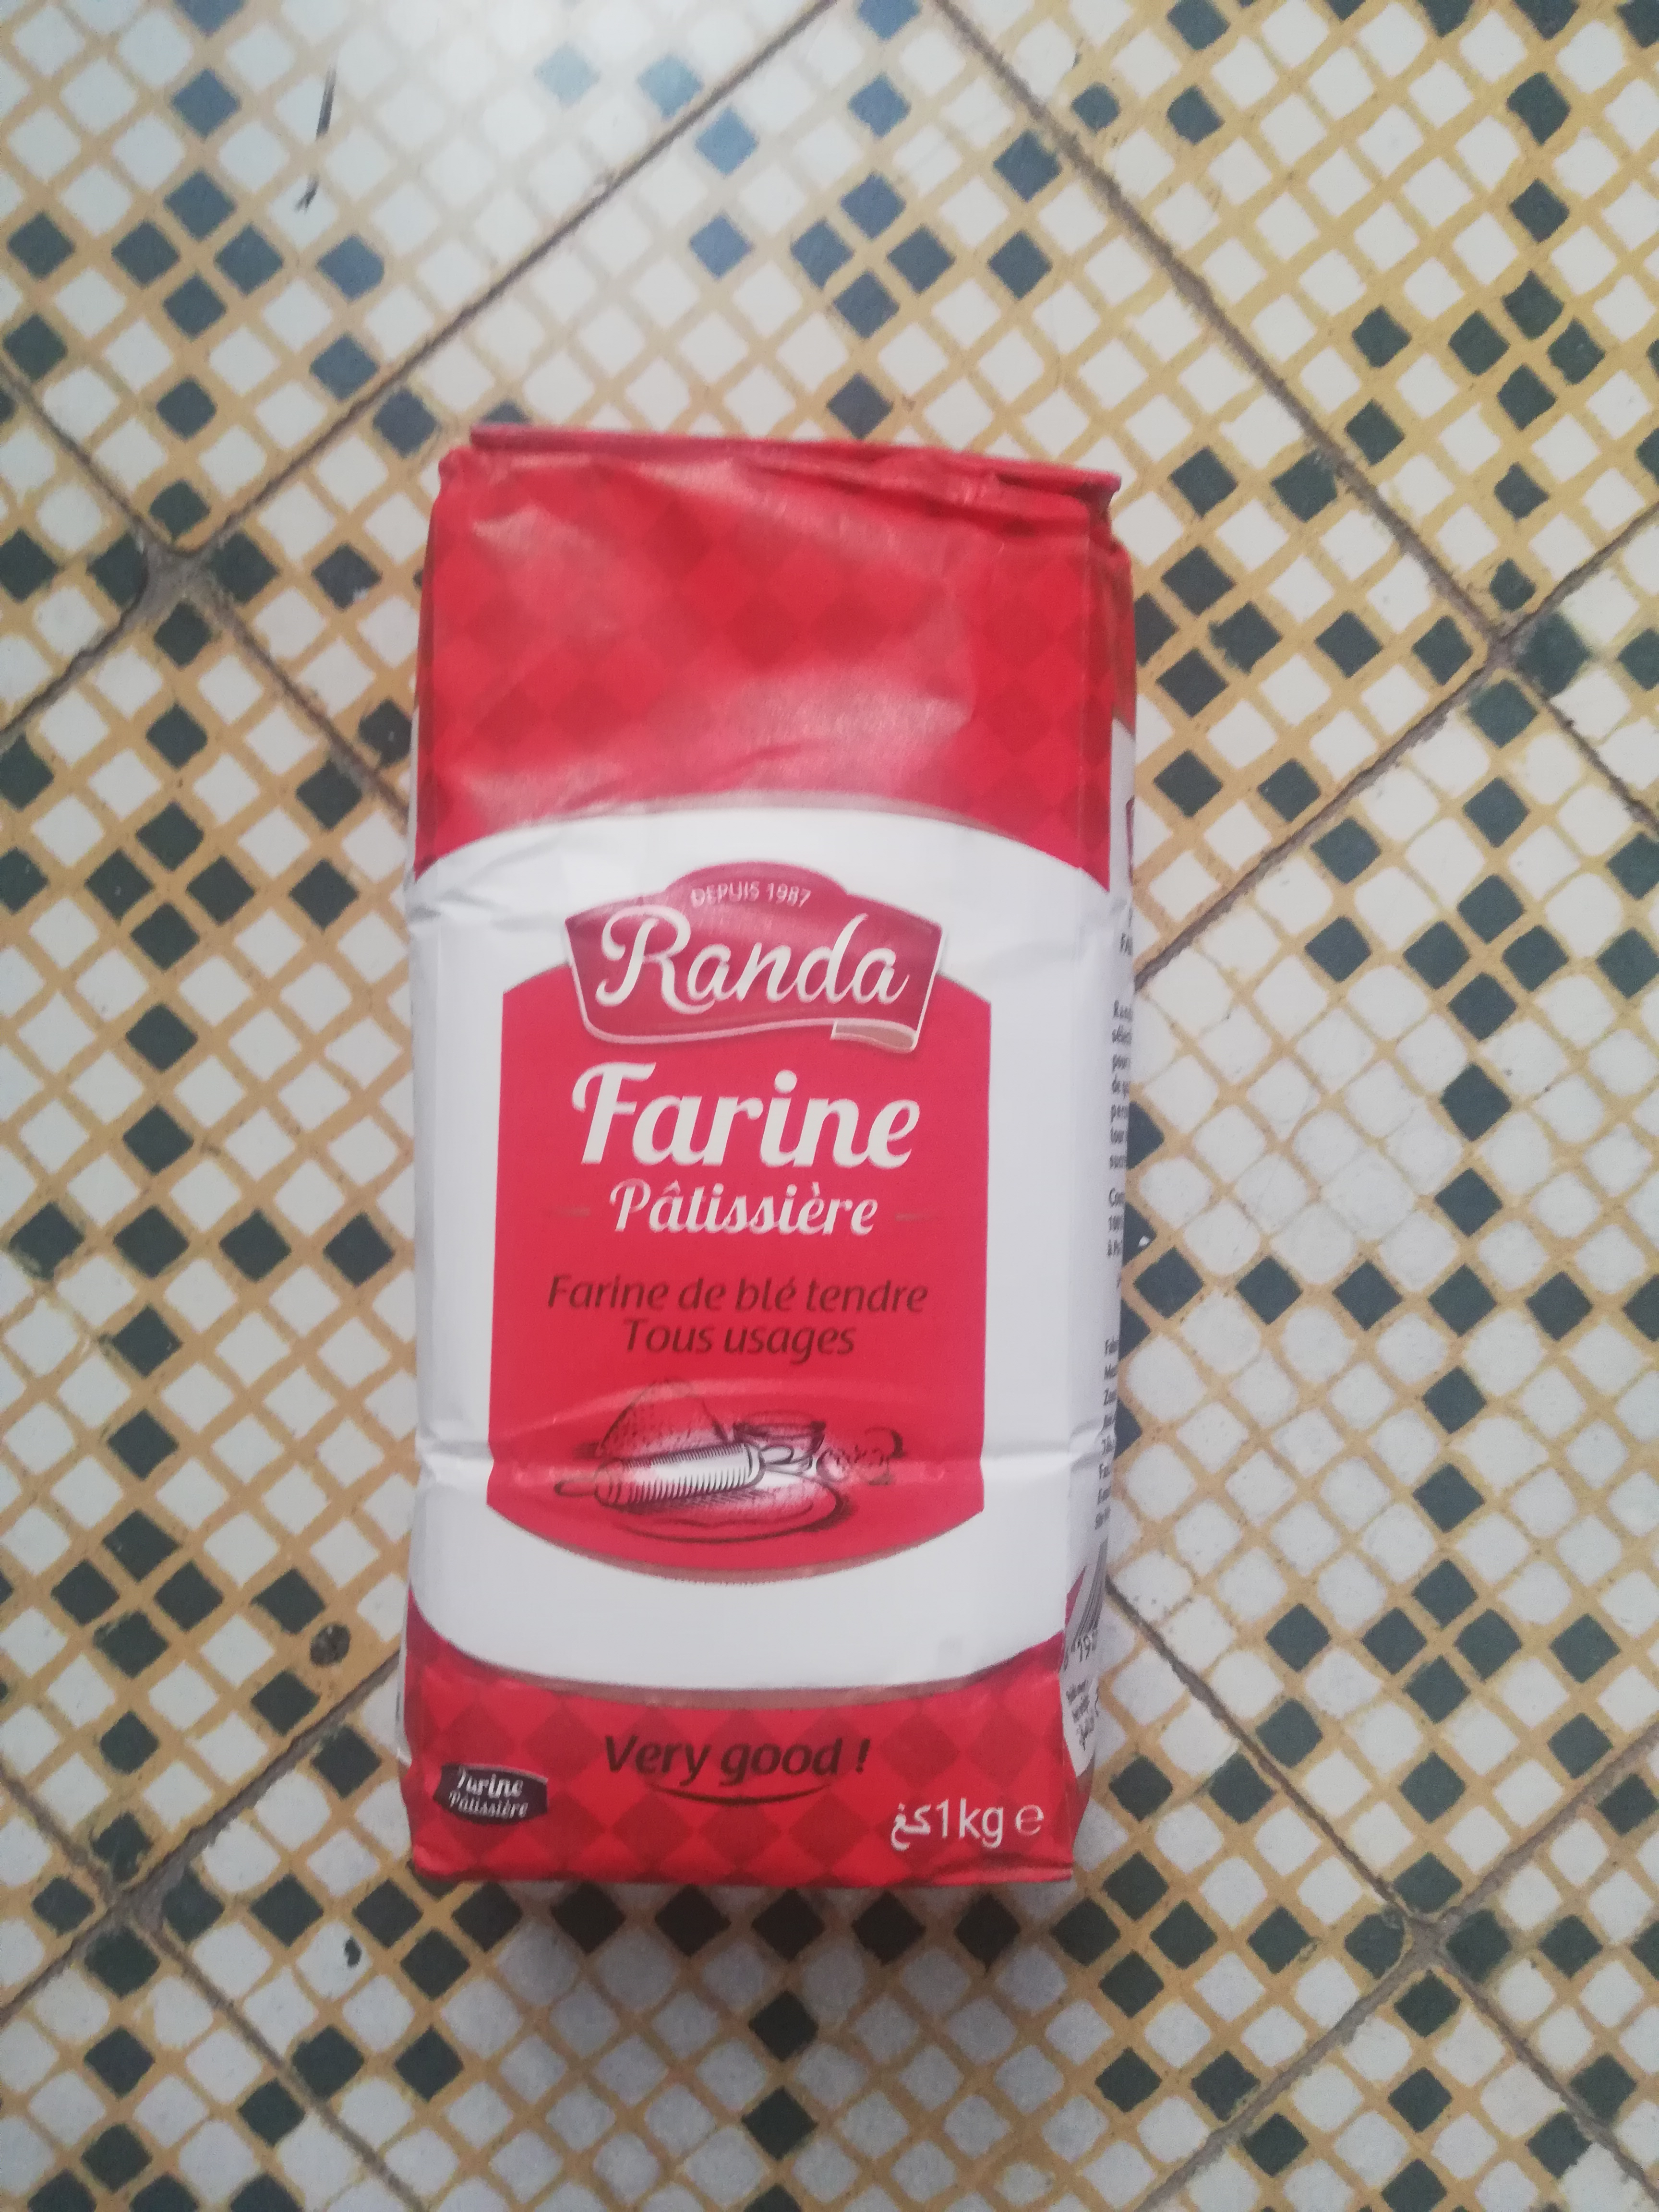Farine Randa: (408, 427, 1131, 1878)
